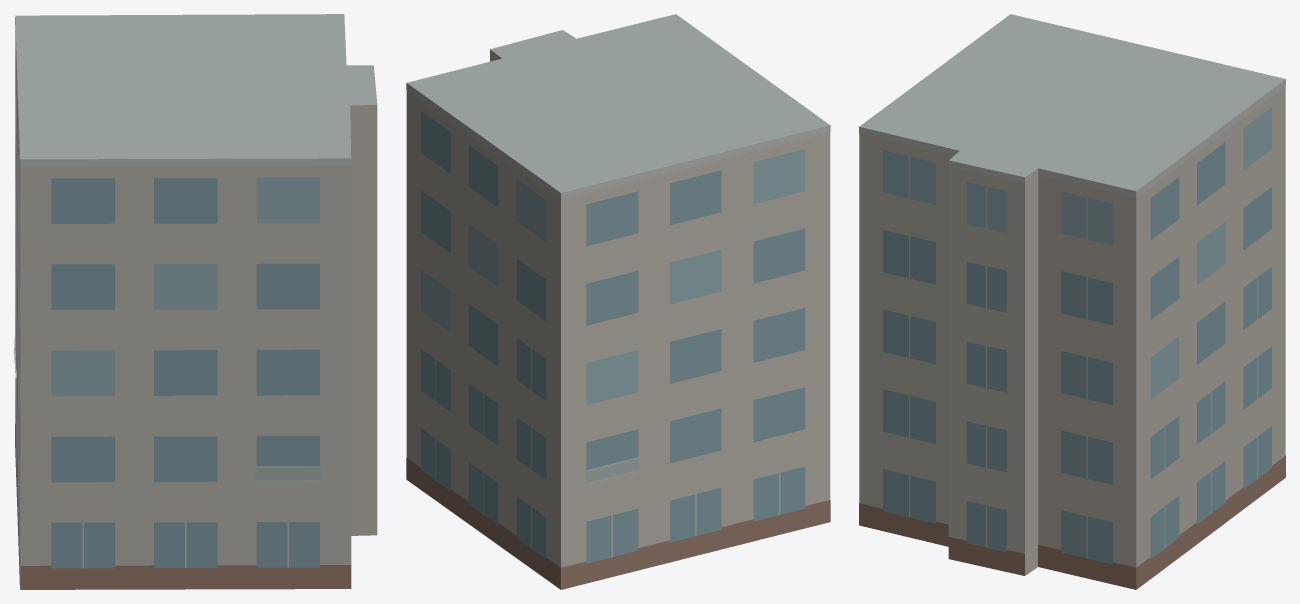
The model's file is survey-upis-32694930.glb.
The picture shows the model from 3 angles, left to right: view 1: azimuth 30°, elevation 25°; view 2: azimuth 150°, elevation 25°; view 3: azimuth 270°, elevation 25°; orthographic projection. The views are drawn at different scales.
Visible parts, largest first — view 1: survey-upis-32694930.tmp; view 2: survey-upis-32694930.tmp; view 3: survey-upis-32694930.tmp.
Part boxes in pixels (x1,y1,x2,y2): survey-upis-32694930.tmp: [14, 14, 377, 589]; survey-upis-32694930.tmp: [406, 14, 830, 589]; survey-upis-32694930.tmp: [859, 14, 1285, 589].
Bounding box in the file's own units: 13.64 × 14.3 × 13.88.
